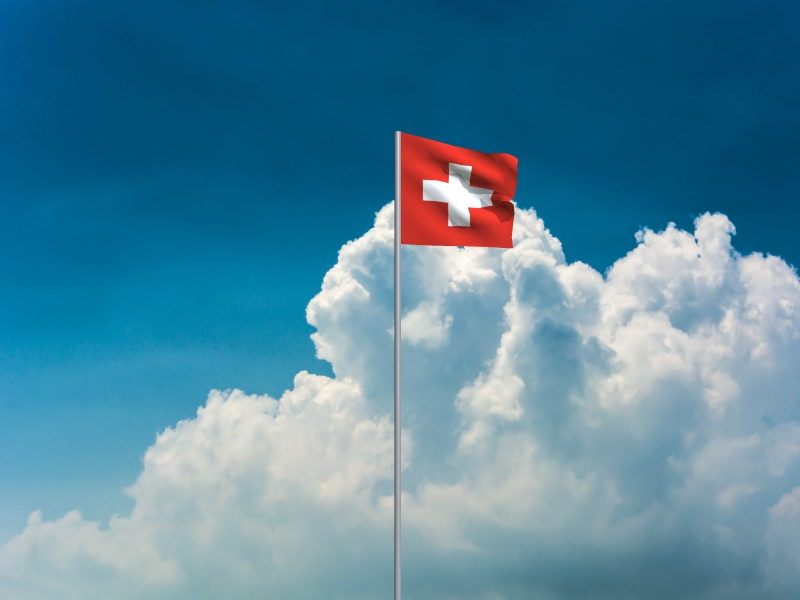ch: (402, 132, 519, 250)
